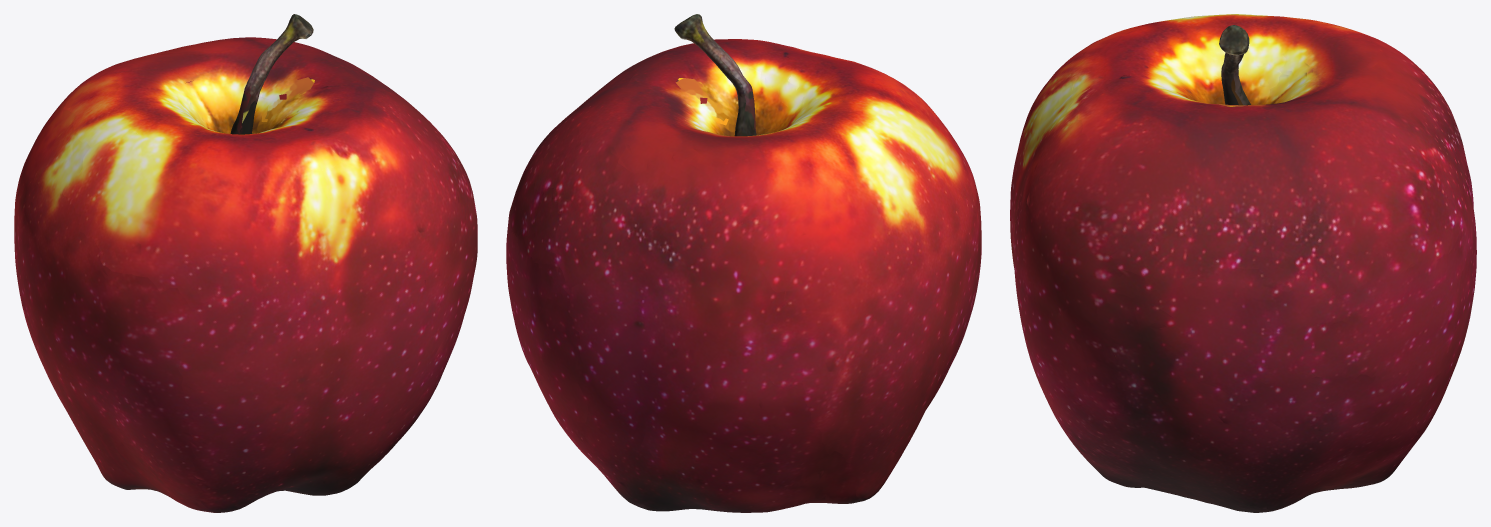
Rendered from apple.glb.
3 views of the same model, side by side, from view 1: azimuth 30°, elevation 25°; view 2: azimuth 150°, elevation 25°; view 3: azimuth 270°, elevation 25° (orthographic). The views are drawn at different scales.
Parts seen in each view (by area): view 1: apple; view 2: apple; view 3: apple.
Boxes of the visible parts, x1,y1,x2,y2 form: apple: (14, 14, 477, 512); apple: (506, 14, 981, 512); apple: (1010, 14, 1476, 512).
Size of the model in its own units: 1.88 by 2 by 1.81.
1 material, 1 textured.
